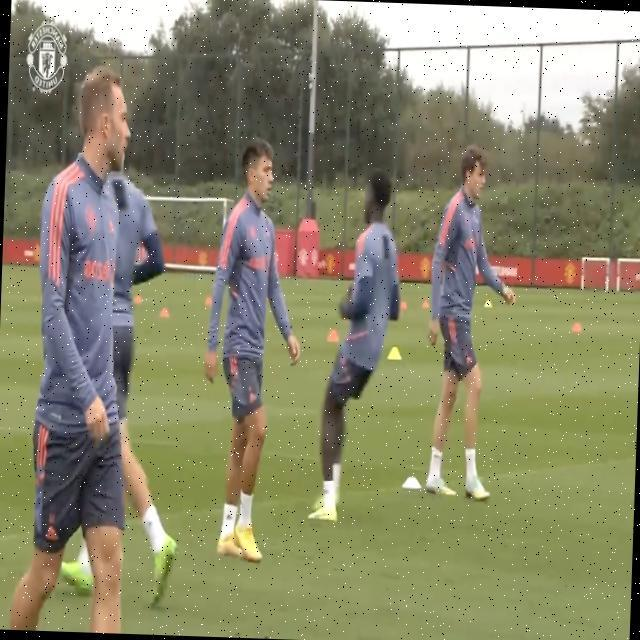Adidas: (44, 524, 58, 542), (224, 510, 234, 523)
